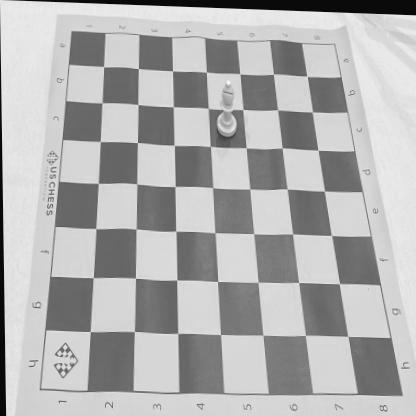white-bishop: (216, 77, 236, 136)
